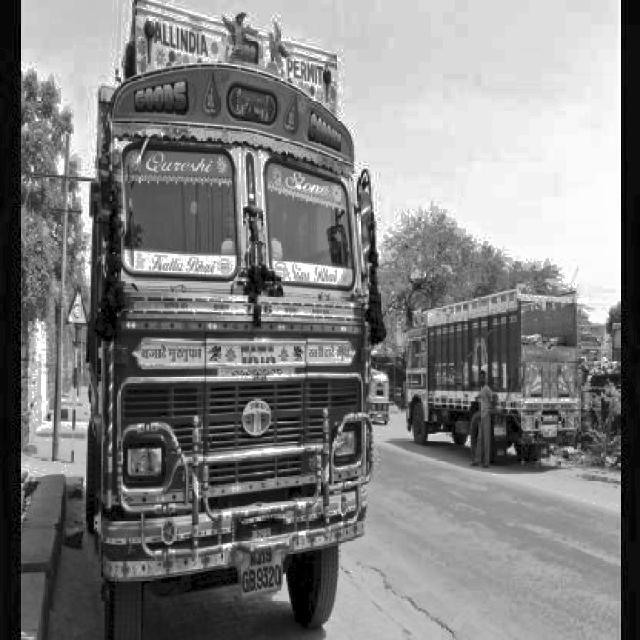HCV: (103, 12, 360, 600)
